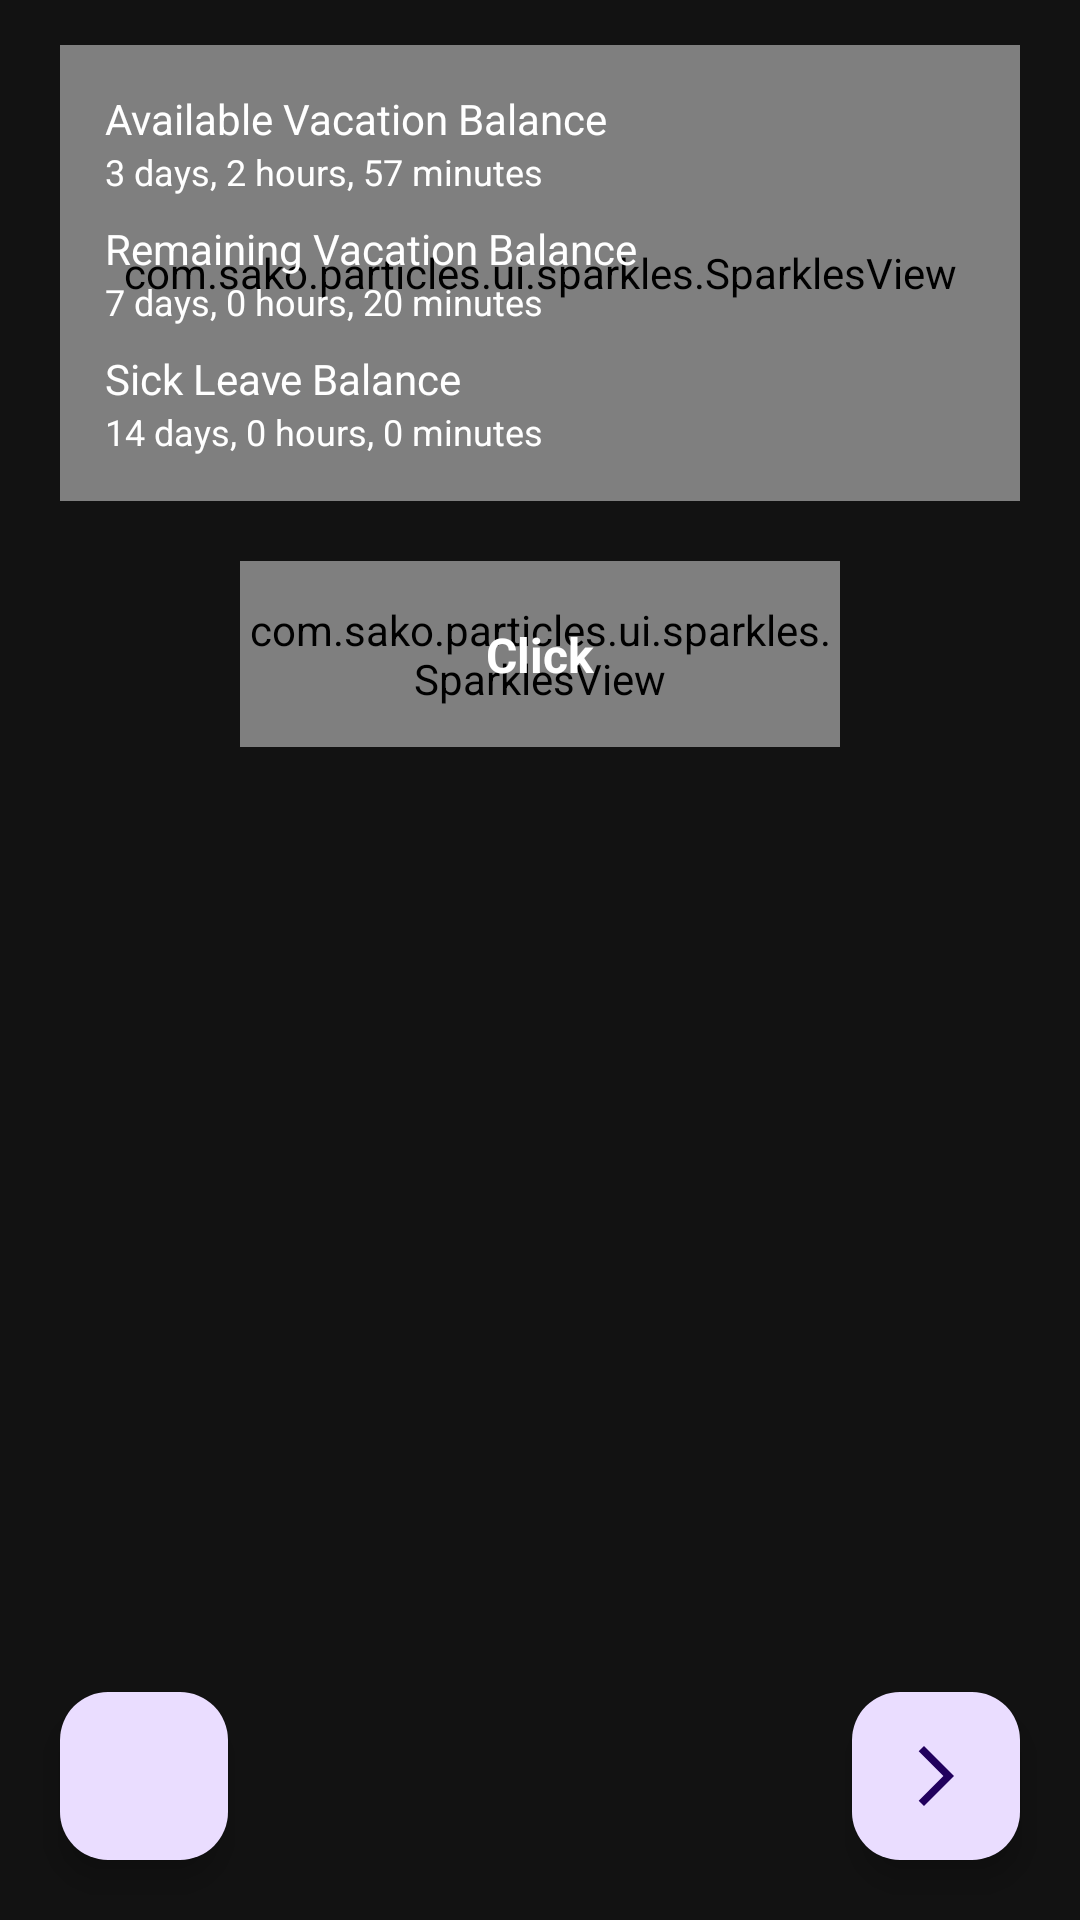

Icon bounding boxes for this 1080 x 1920 phone screenshot, format {"left": x1, "top": y1, "right": x2, "bottom": y2}:
Next page: {"left": 852, "top": 1692, "right": 1020, "bottom": 1860}
